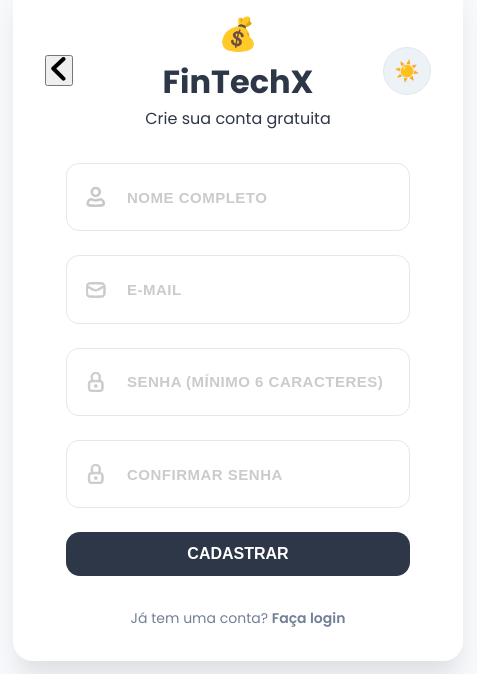
it: Register Page › should show error when passwords do not match
In the field with test id "input-name": (238, 197) [66,163,410,231], type "Test User"
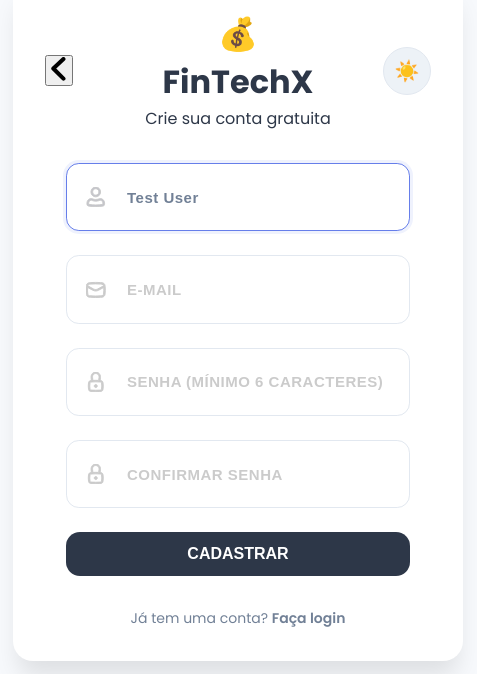
In the field with test id "input-email": (238, 289) [66,255,410,323], type "test@example.com"
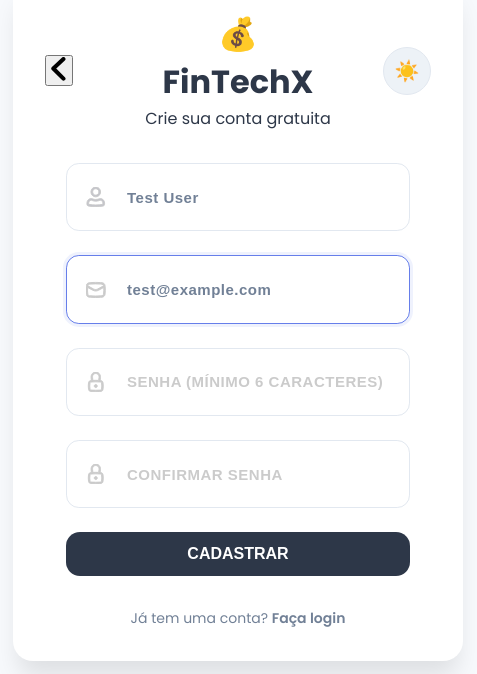
In the password field with test id "input-password": (238, 382) [66,348,410,416], type "password123"
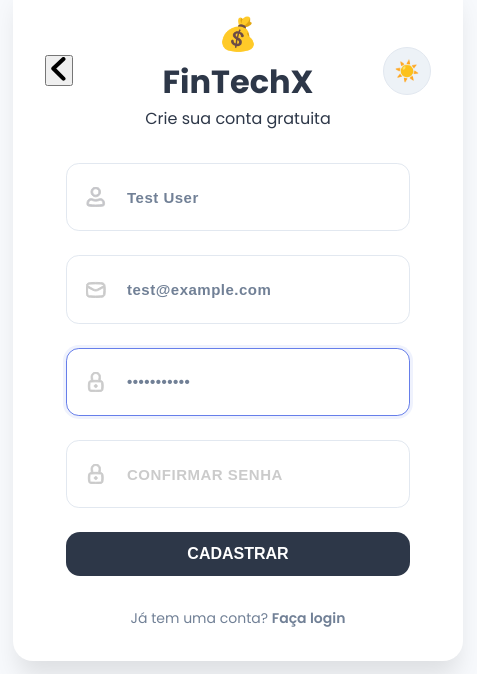
In the password field with test id "input-confirmPassword": (238, 474) [66,440,410,508], type "different"
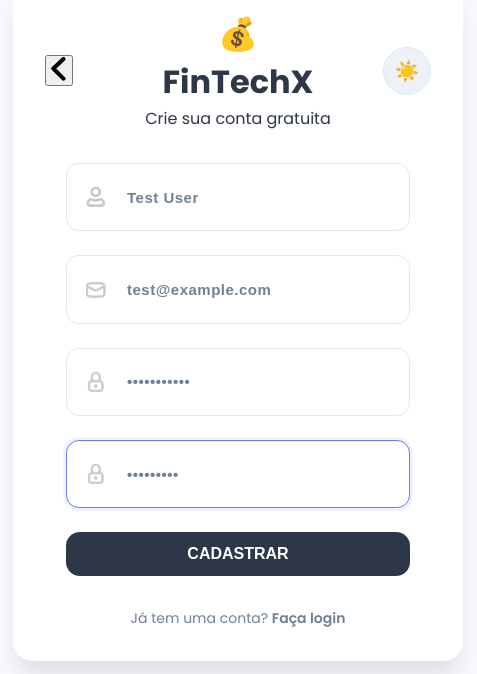
Click the button "Cadastrar": (238, 554) [66,532,410,576]
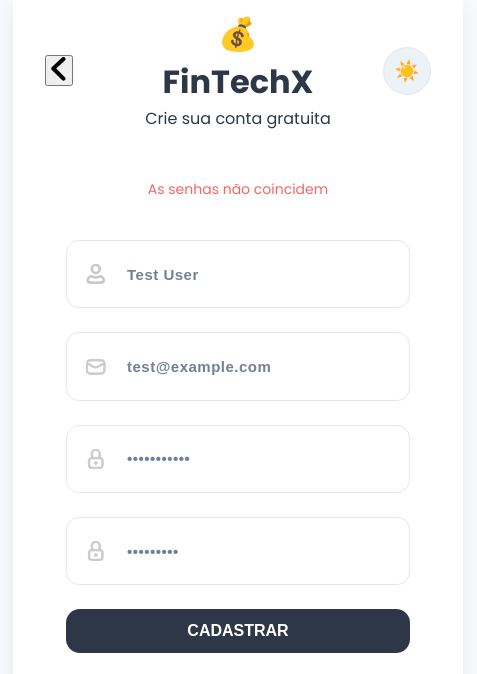
Result: the text "As senhas não coincidem" is shown at [148,179,328,199]
